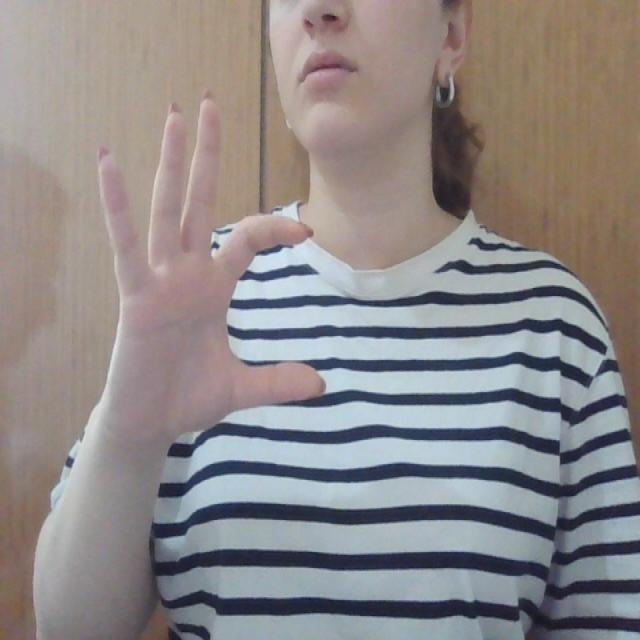Tuvalet: (90, 79, 338, 440)
